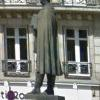Statue: (24, 1, 76, 91)
